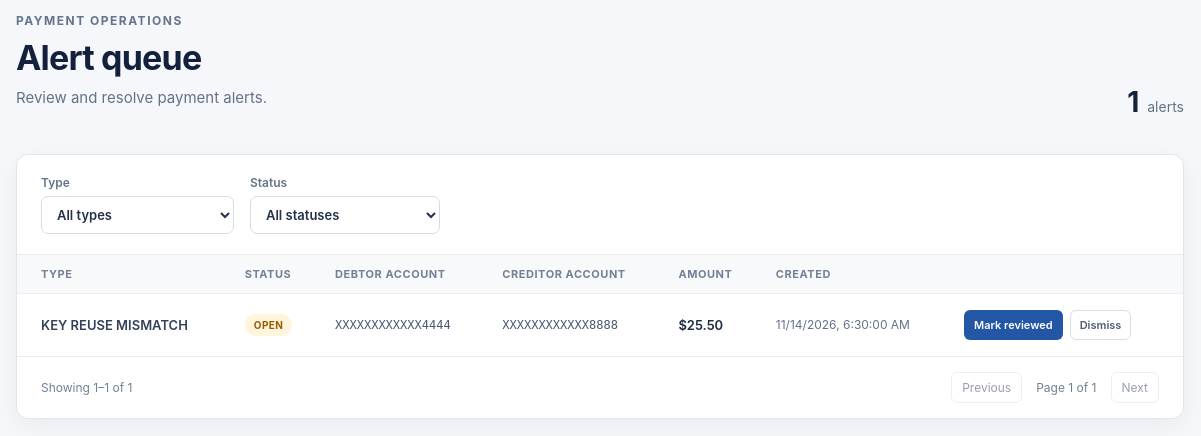
Test case: alert queue › renders alerts and sends a dismiss PATCH with the requested status
The width and height of the screenshot is (1201, 436).
Expected: the text "XXXXXXXXXXXX4444" is shown, [319,293,486,356]
Click the button "Dismiss": (1100, 325) [1070,310,1131,340]
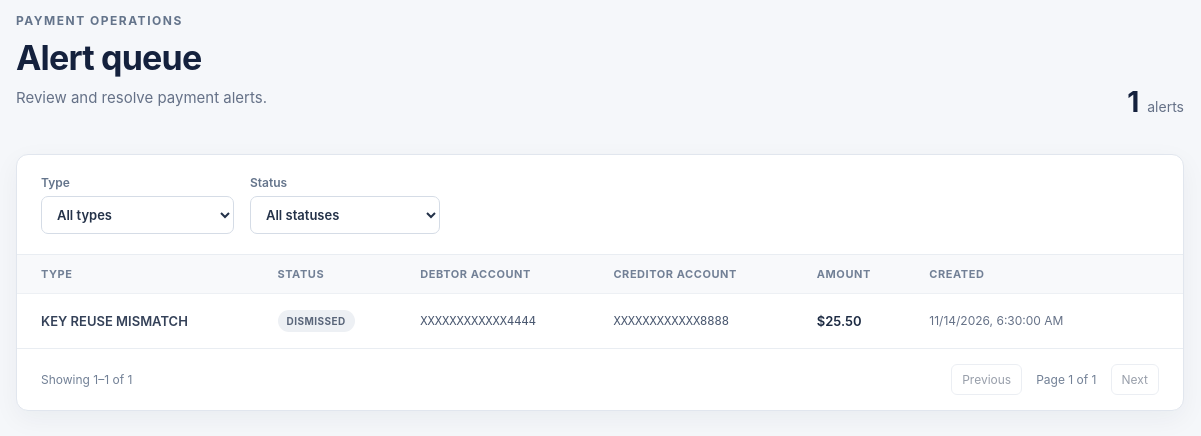
Now the text "DISMISSED" is shown, box [278,310,355,332]
